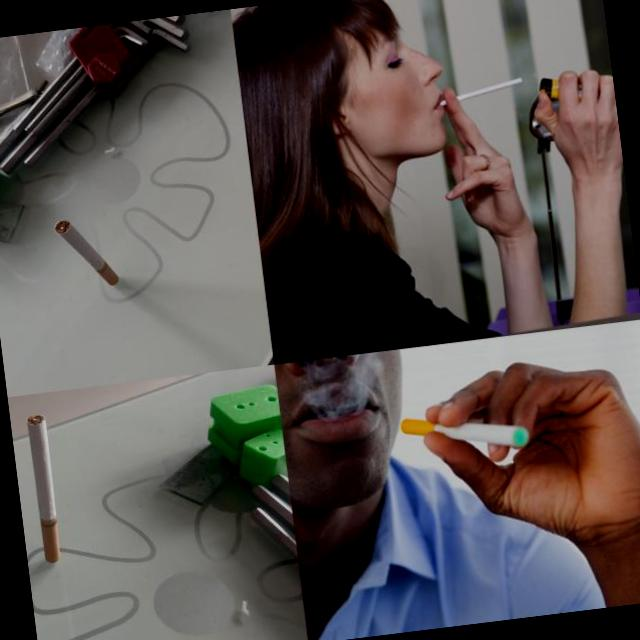smoke: (398, 403, 532, 462), (25, 414, 63, 564), (54, 212, 120, 292), (428, 70, 526, 106)
